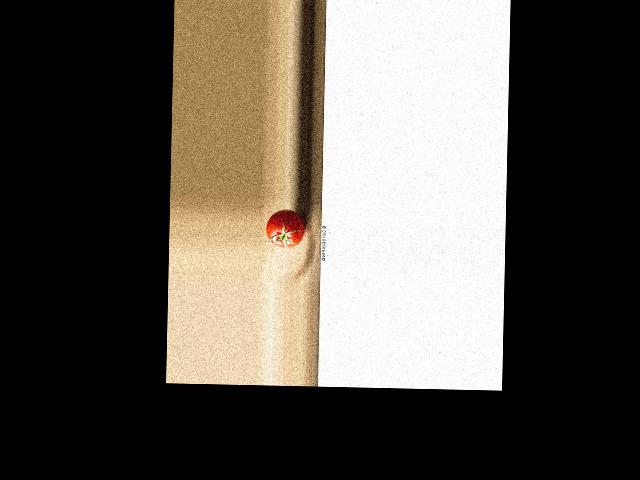tomato: (266, 209, 304, 248)
